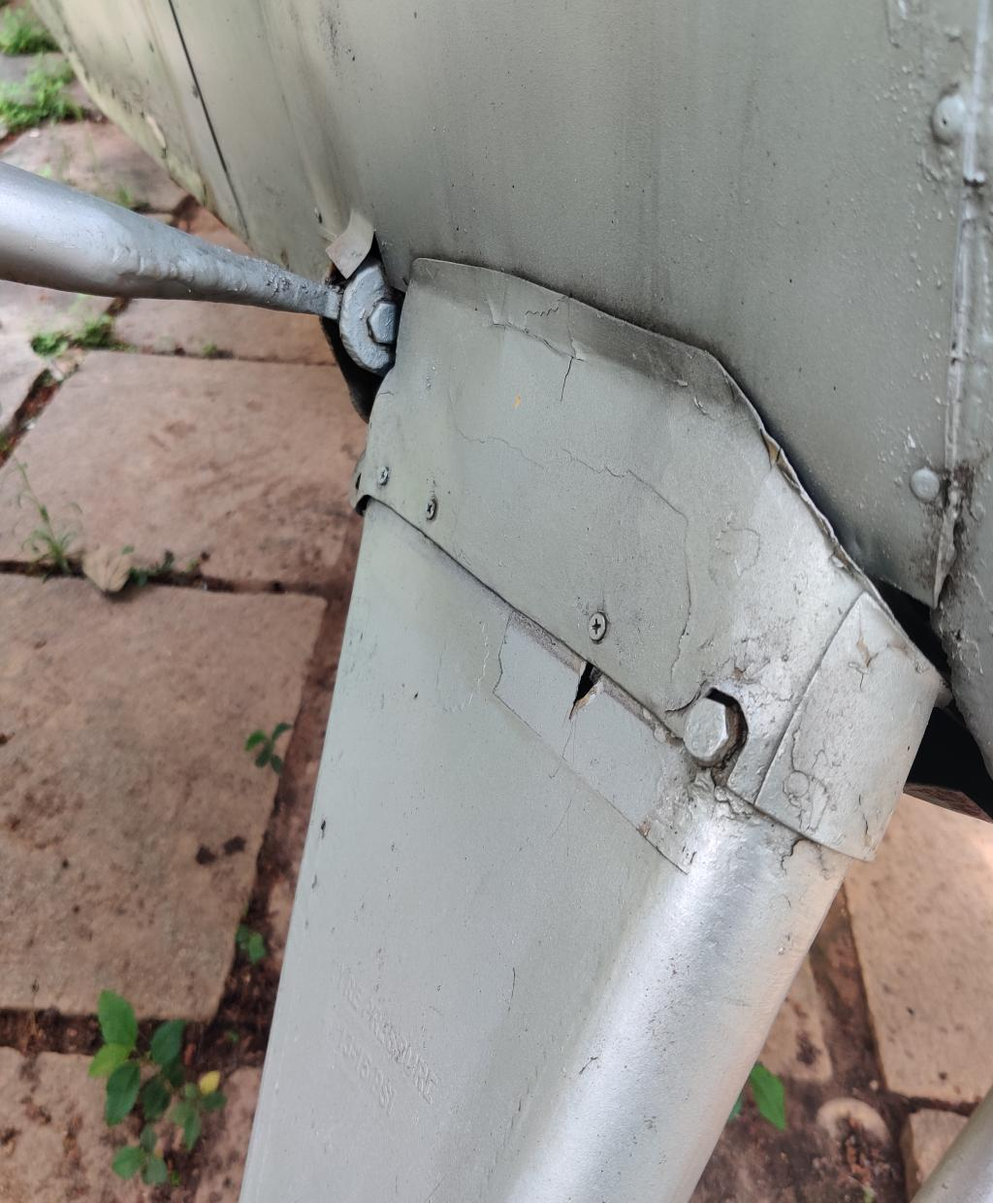crack: (536, 602, 649, 758)
